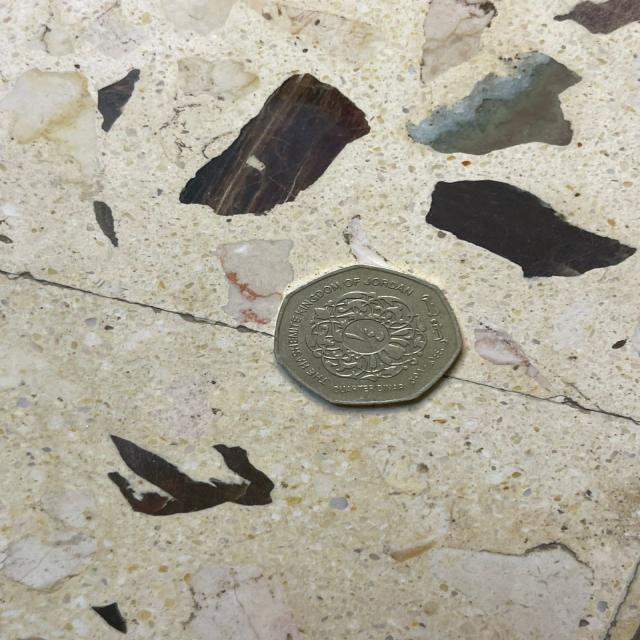25-coins: (273, 262, 463, 406)
